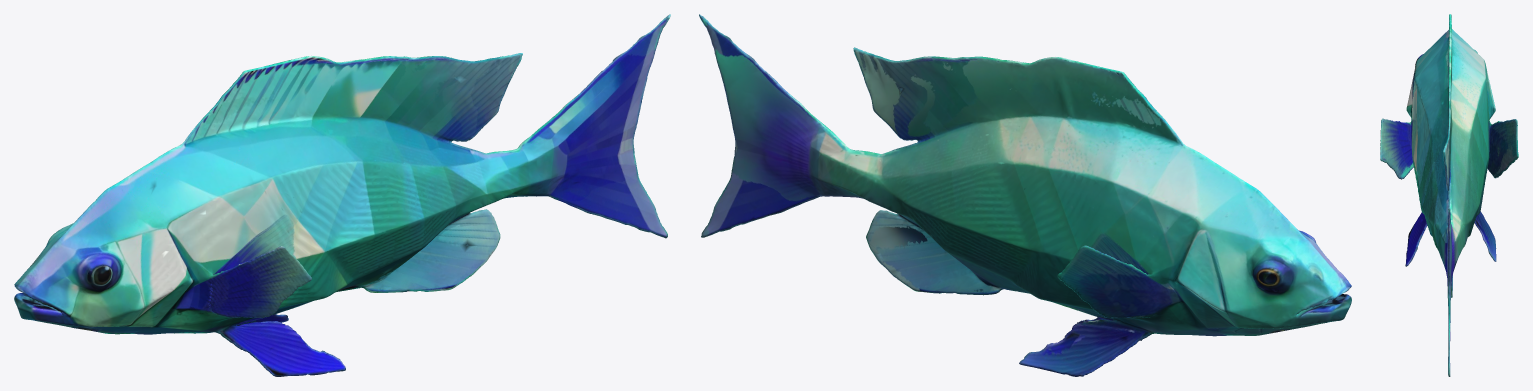
File: Blue_Green_Chromis_texture.glb
The picture shows the model from 3 angles, left to right: view 1: azimuth 30°, elevation 25°; view 2: azimuth 150°, elevation 25°; view 3: azimuth 270°, elevation 25°; orthographic projection. The views are drawn at different scales.
Size of the model in its own units: 2 by 0.8695 by 0.483.
Materials: 1 (1 with a texture image).
